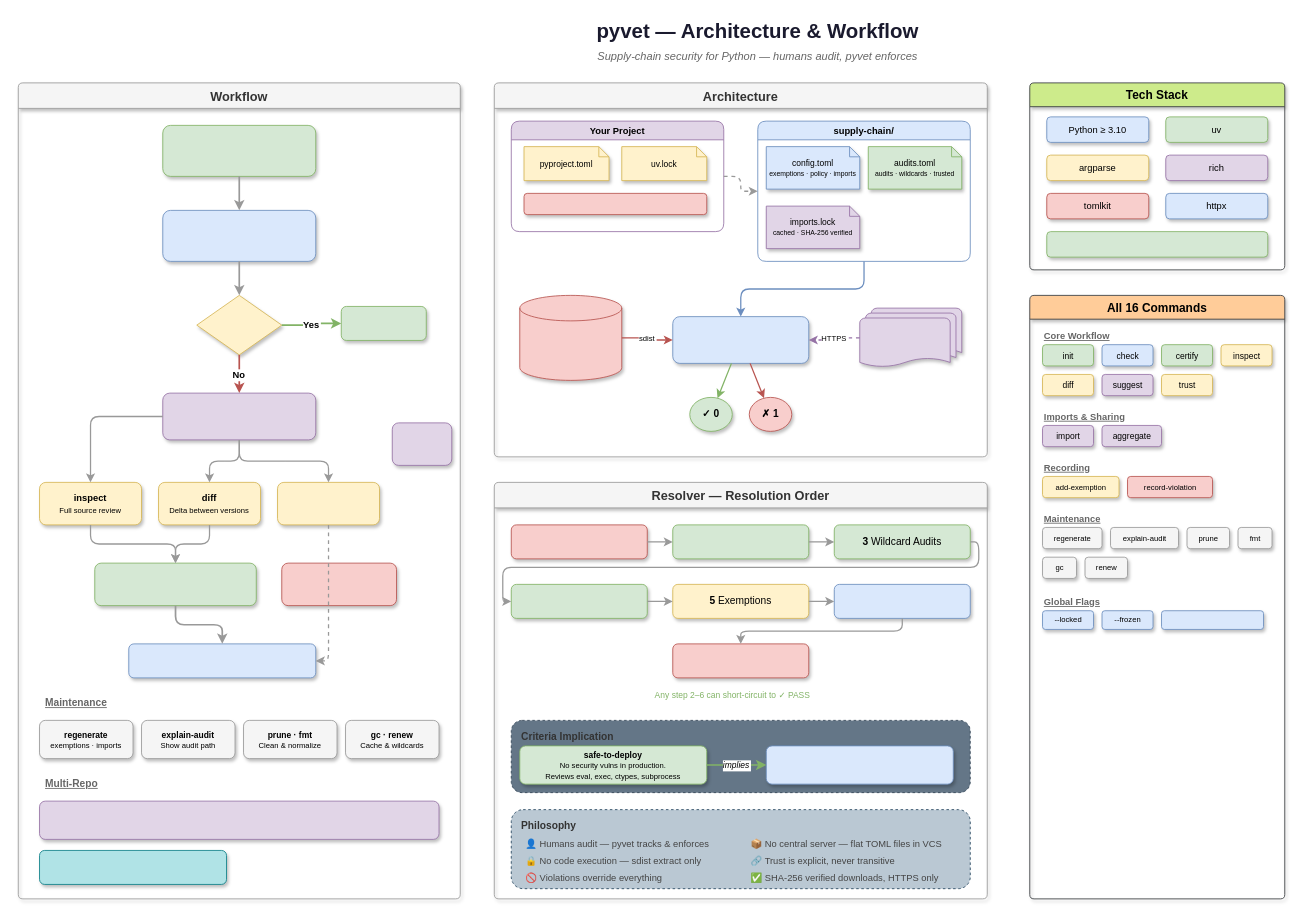
Some shapes in this 1305 by 920 pixel diagram are drawn without their labels. The centre of each missing label's shape, as x and y in pixels:
"--output-format json" belongs at (x=1213, y=620).
"1 Violations" belongs at (x=579, y=543).
"2 Full Audits" belongs at (x=741, y=543).
"4 Trusted Publishers" belongs at (x=579, y=602).
"6 Delta Chains" belongs at (x=902, y=602).
"7 ✗ Unvetted" belongs at (x=741, y=662).
"add-exemption Manual backlog entry" belongs at (x=133, y=868).
"All vetted?" belongs at (x=240, y=326).
"External Audits Imported from trusted orgs" belongs at (x=911, y=339).
"import External audit sets" belongs at (x=422, y=445).
"PyPI JSON API sdist download SHA-256 verify" belongs at (x=571, y=338).
"pyvet aggregate Merge audit files from multiple repositories" belongs at (x=239, y=821).
"pyvet certify Full · Delta · Wildcard" belongs at (x=176, y=585).
"pyvet check Resolve all deps Exit 0 (pass) or 1 (fail)" belongs at (x=240, y=236).
"pyvet check ← CI gate" belongs at (x=223, y=662).
"pyvet init Create supply-chain/ Auto-exempt all deps" belongs at (x=240, y=151).
"pyvet suggest Rank audits by effort Estimate line counts" belongs at (x=240, y=417).
"record-violation Block known-bad pkgs" belongs at (x=340, y=585).
"Resolver Audit graph walk" belongs at (x=741, y=340).
"safe-to-run No surprising filesystem, network, or system access" belongs at (x=860, y=766).
"SHA-256 · no code execution" belongs at (x=1158, y=245).
"src/" belongs at (x=616, y=205).
"trust Trust a publisher" belongs at (x=329, y=504).
"✓ PASS" belongs at (x=384, y=324).
